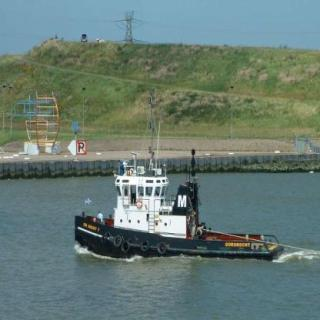Tug Boat: (72, 148, 284, 258)
